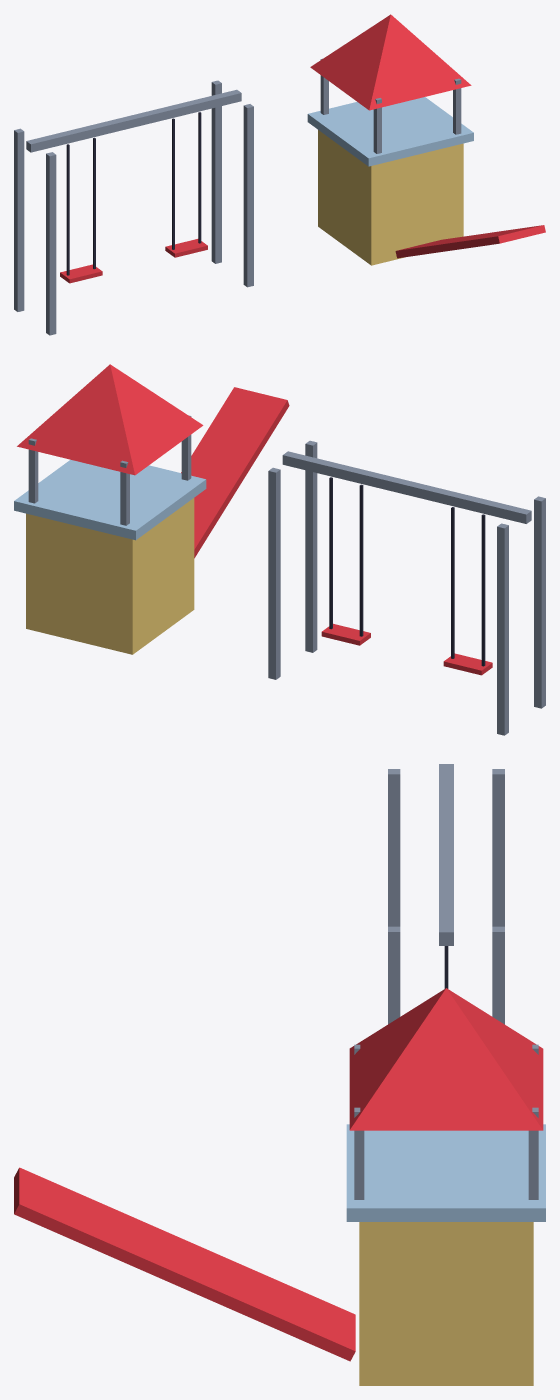
The model's file is playset.glb.
3 renders of one model, top to bottom at view 1: azimuth 30°, elevation 25°; view 2: azimuth 150°, elevation 25°; view 3: azimuth 270°, elevation 25°, orthographic. The views are drawn at different scales.
Visible parts, largest first — view 1: playset_wall_yellow, playset_metal, playset_red, playset_wall_blue, playset_black; view 2: playset_red, playset_wall_yellow, playset_metal, playset_wall_blue, playset_black; view 3: playset_red, playset_wall_yellow, playset_wall_blue, playset_metal.
Boxes of the visible parts, x1,y1,x2,y2 form: playset_wall_yellow: (318,130,463,265); playset_metal: (14,58,461,335); playset_red: (60,14,545,283); playset_wall_blue: (307,97,473,166); playset_black: (66,112,201,275); playset_red: (17,364,492,675); playset_wall_yellow: (26,498,194,654); playset_metal: (28,415,545,735); playset_wall_blue: (14,459,206,540); playset_black: (329,477,485,666); playset_red: (14,988,543,1361); playset_wall_yellow: (359,1222,533,1385); playset_wall_blue: (346,1124,545,1221); playset_metal: (354,764,538,1199).
Size of the model in its own units: 6.3 by 3.2 by 4.27.
